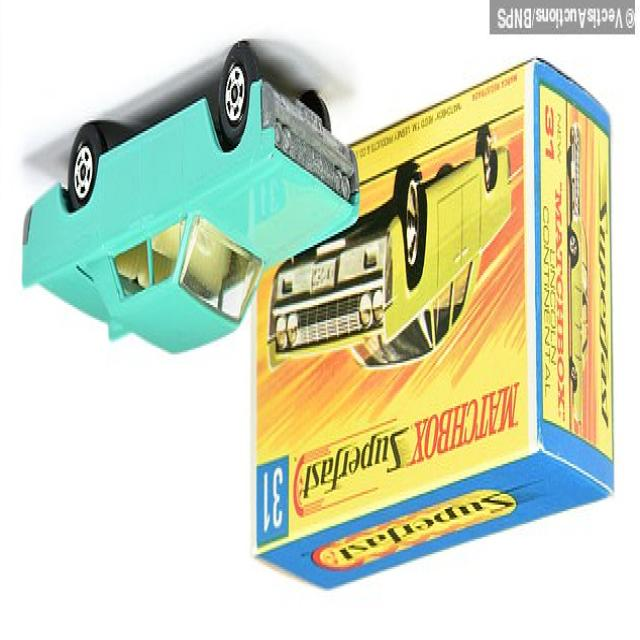Car: (22, 41, 362, 356), (267, 124, 513, 373)
